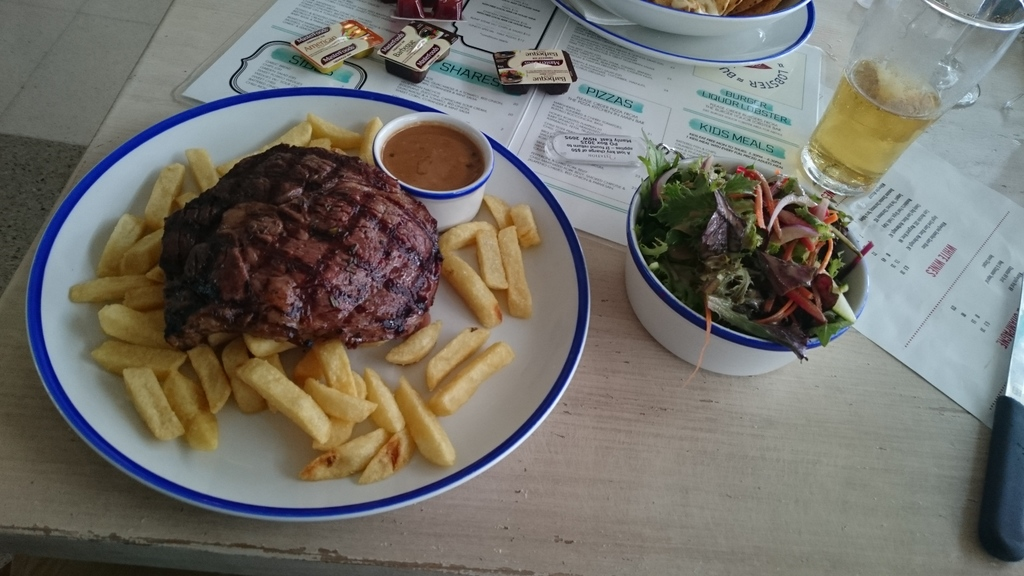French fries: (25, 108, 554, 501)
